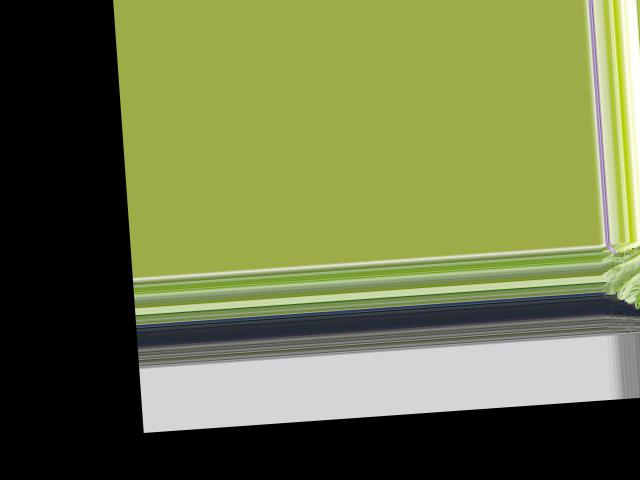lettuce: (601, 241, 640, 301)
